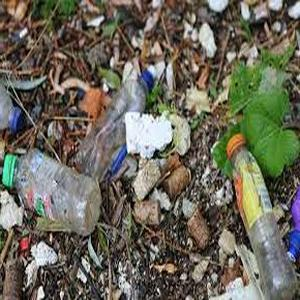Plastic: (226, 134, 300, 300), (2, 144, 103, 240), (75, 64, 156, 173)
